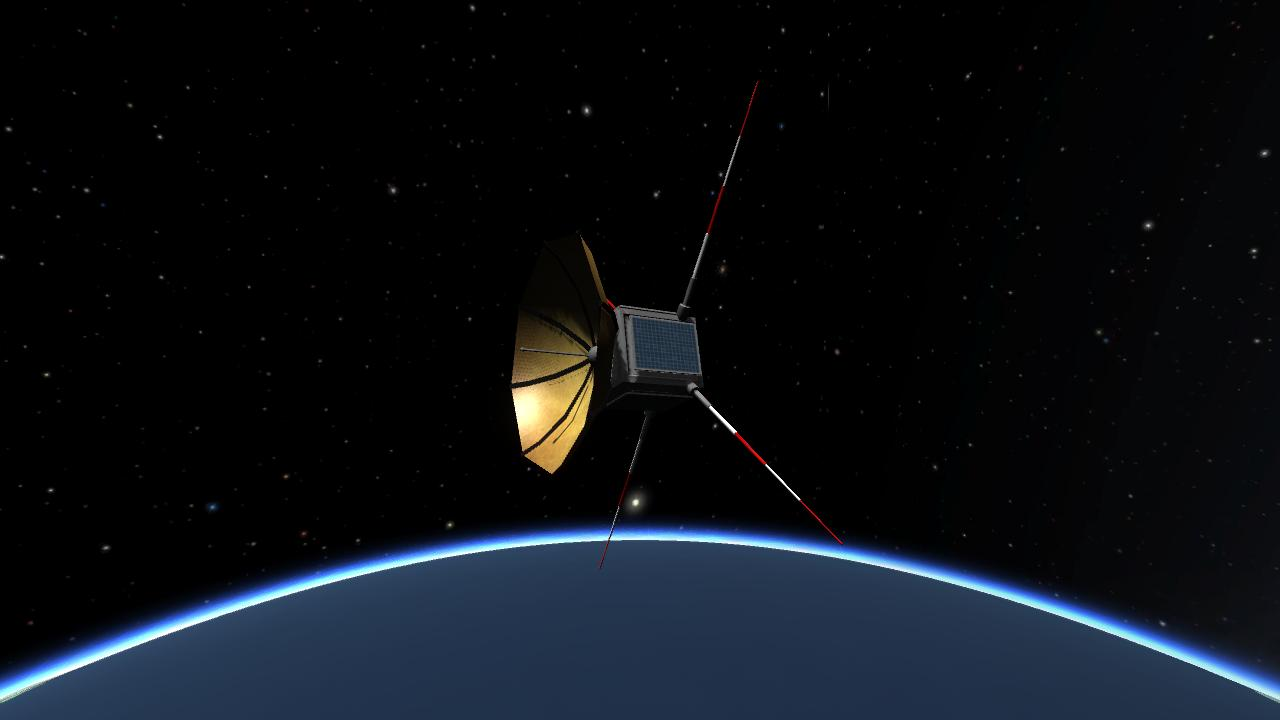antenna: (507, 228, 620, 480), (687, 380, 846, 549), (676, 75, 765, 317), (596, 411, 655, 572)
body: (604, 300, 708, 415)
solar: (629, 313, 706, 378), (604, 390, 697, 414)
